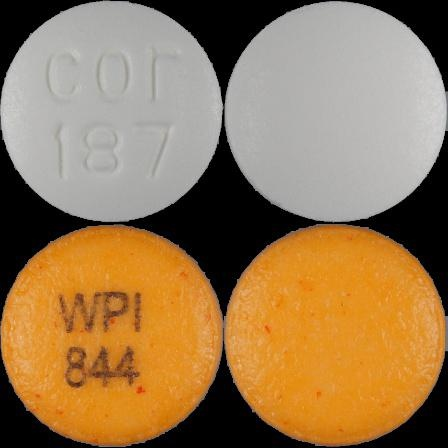63629-4061: (0, 0, 224, 224)
